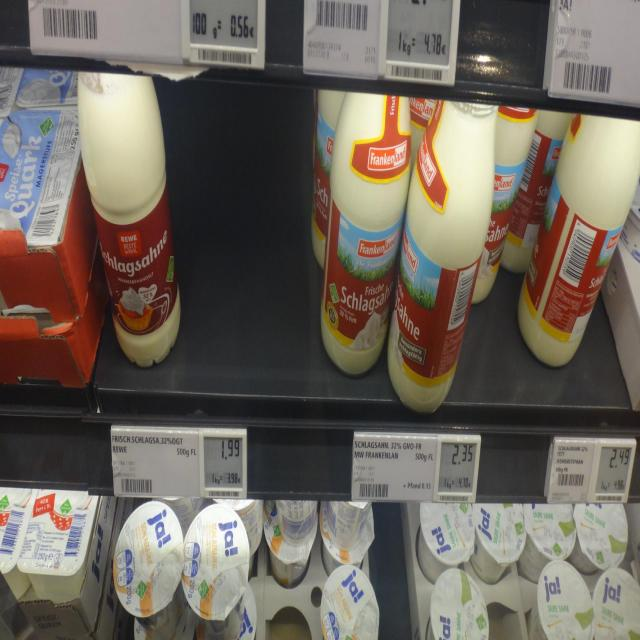Cream: (388, 101, 497, 412), (518, 115, 640, 366), (78, 73, 180, 366), (321, 93, 411, 375), (472, 107, 537, 303), (501, 111, 572, 273), (113, 501, 185, 639), (182, 504, 249, 639), (312, 90, 344, 267), (528, 560, 593, 640), (416, 502, 474, 584), (263, 501, 317, 588), (517, 504, 575, 583), (426, 568, 489, 640), (321, 564, 379, 640), (470, 504, 525, 584), (568, 504, 628, 574), (319, 502, 374, 575), (593, 567, 640, 640), (213, 498, 263, 556), (325, 501, 371, 549), (276, 500, 317, 544)
